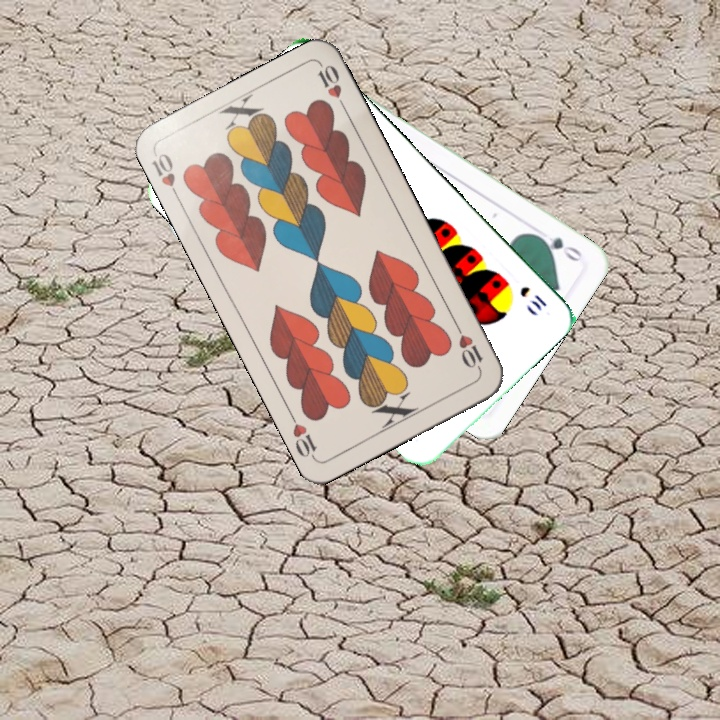GO: (531, 230, 585, 265)
H10: (451, 319, 486, 374), (148, 148, 183, 203)
S10: (516, 282, 549, 314)
